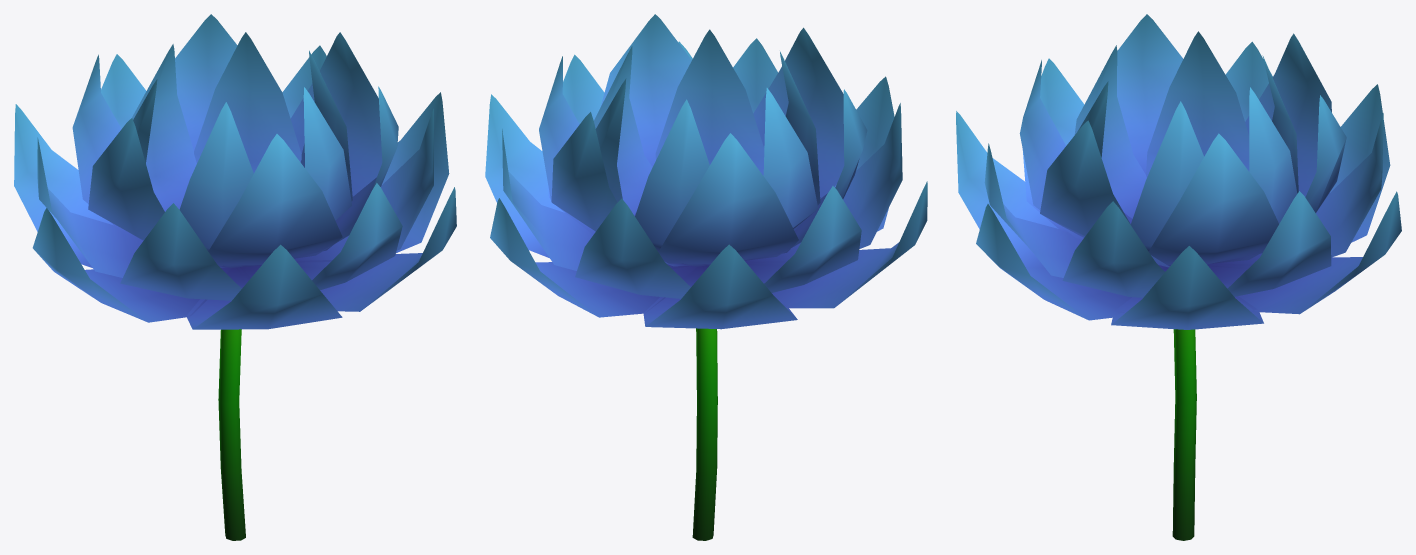
Rendered from flower (12).fbx.
3 views of the same model, side by side, from view 1: azimuth 30°, elevation 25°; view 2: azimuth 150°, elevation 25°; view 3: azimuth 270°, elevation 25° (orthographic).
Parts seen in each view (by area): view 1: 11_f1; view 2: 11_f1; view 3: 11_f1.
Boxes of the visible parts, x1,y1,x2,y2 form: 11_f1: [14, 14, 456, 540]; 11_f1: [485, 14, 927, 540]; 11_f1: [956, 14, 1401, 540].
Size of the model in its own units: 106 by 115 by 99.06.
